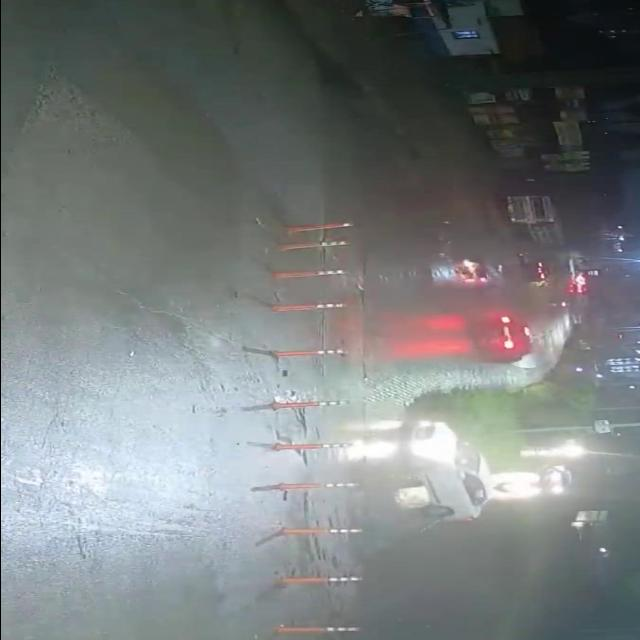accident: (449, 250, 507, 290)
